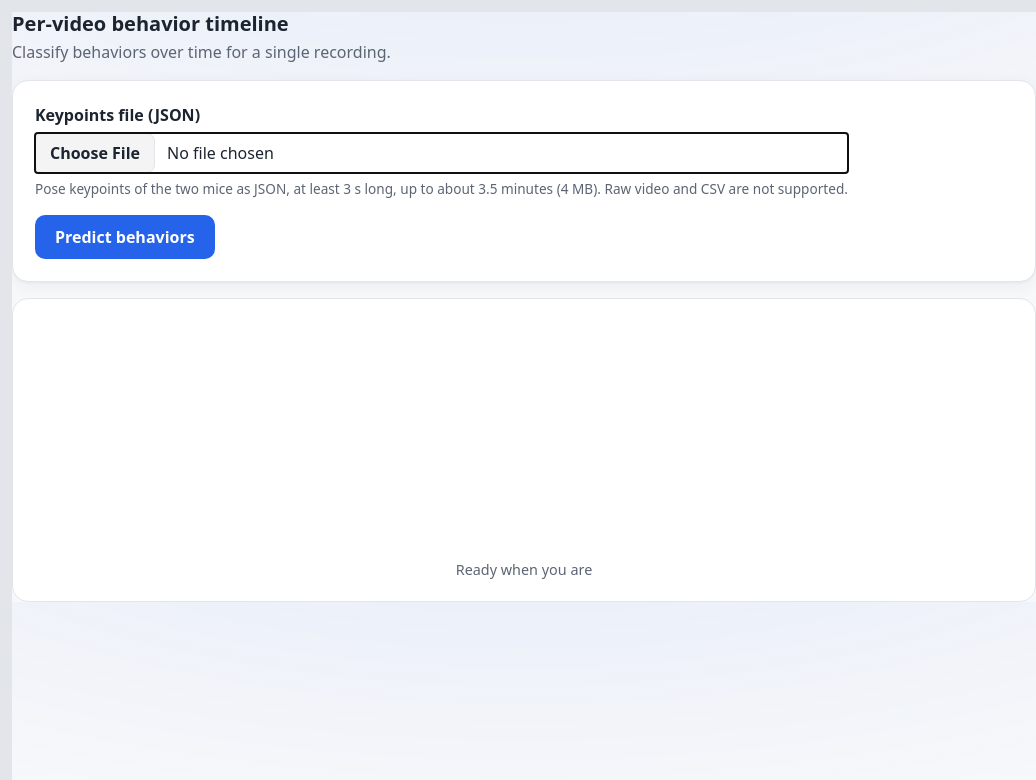
Scenario: TimelineView › shows an empty-state message when the model finds no behaviors
The width and height of the screenshot is (1036, 780).
Earlier steps of the test are not shown.
Click the button "Predict behaviors". click: point(125, 237)
box: [35,215,215,259]
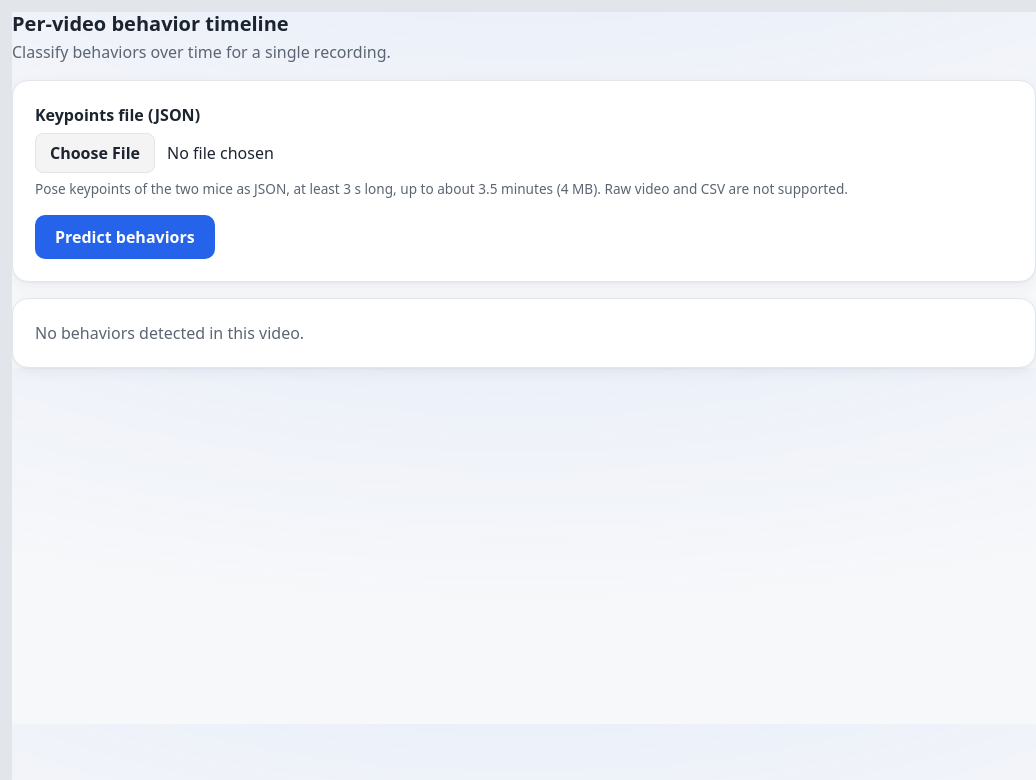
Expected: the text "No behaviors detected in this video." is shown, [35,322,304,344]
